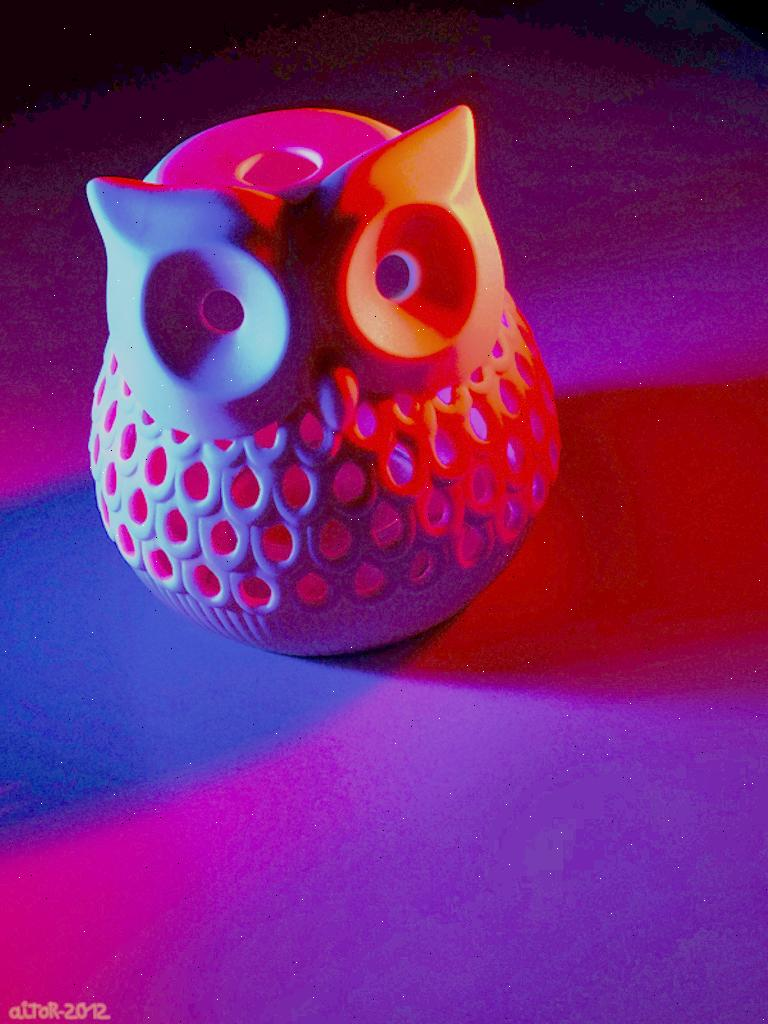Owl: (83, 104, 567, 644)
